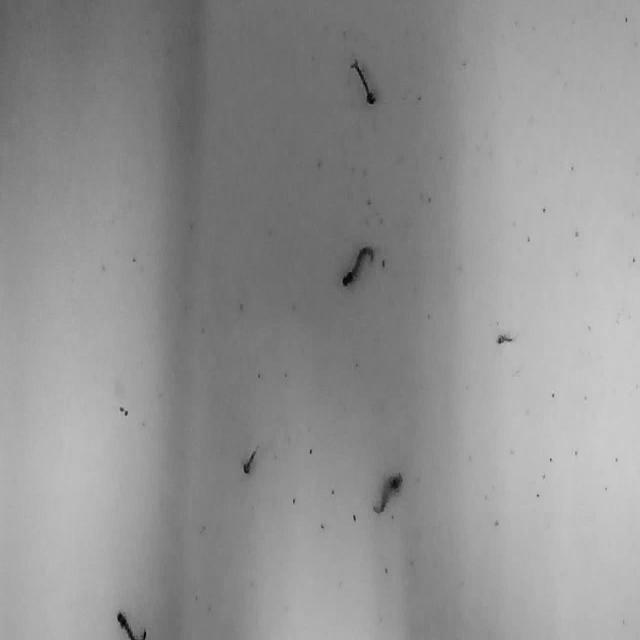larvas: (341, 247, 373, 286), (350, 58, 376, 104), (373, 474, 403, 512), (116, 612, 146, 640), (244, 445, 258, 473), (496, 334, 514, 343)
